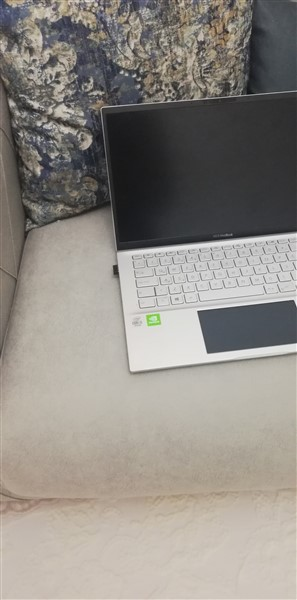laptop: (96, 94, 297, 386)
